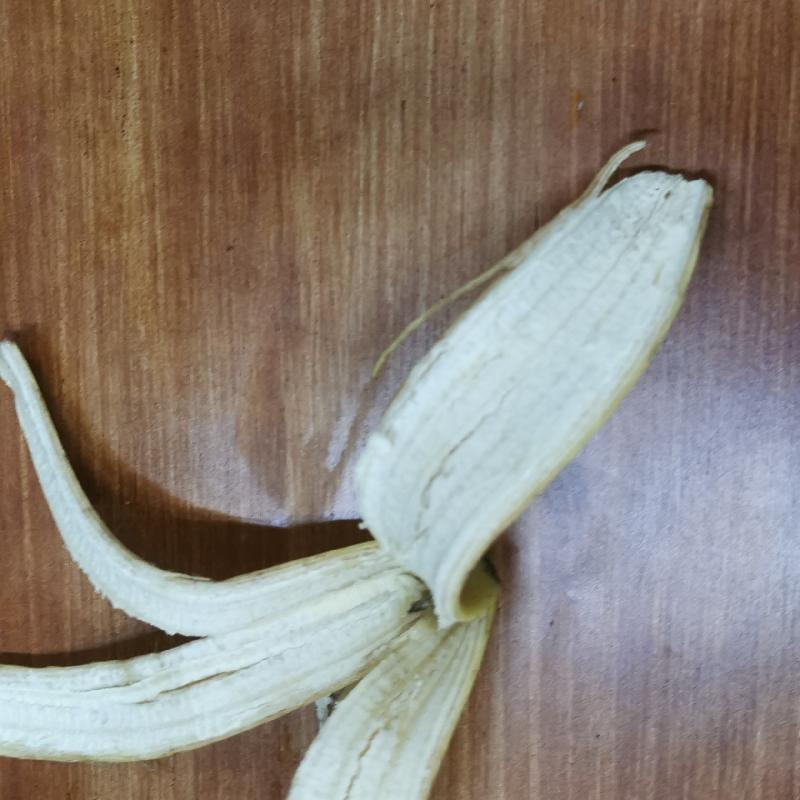bananas: (8, 138, 732, 800)
